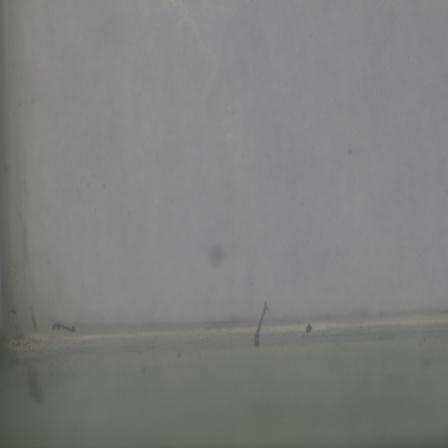Jentik-Nyamuk: (250, 296, 272, 350)
